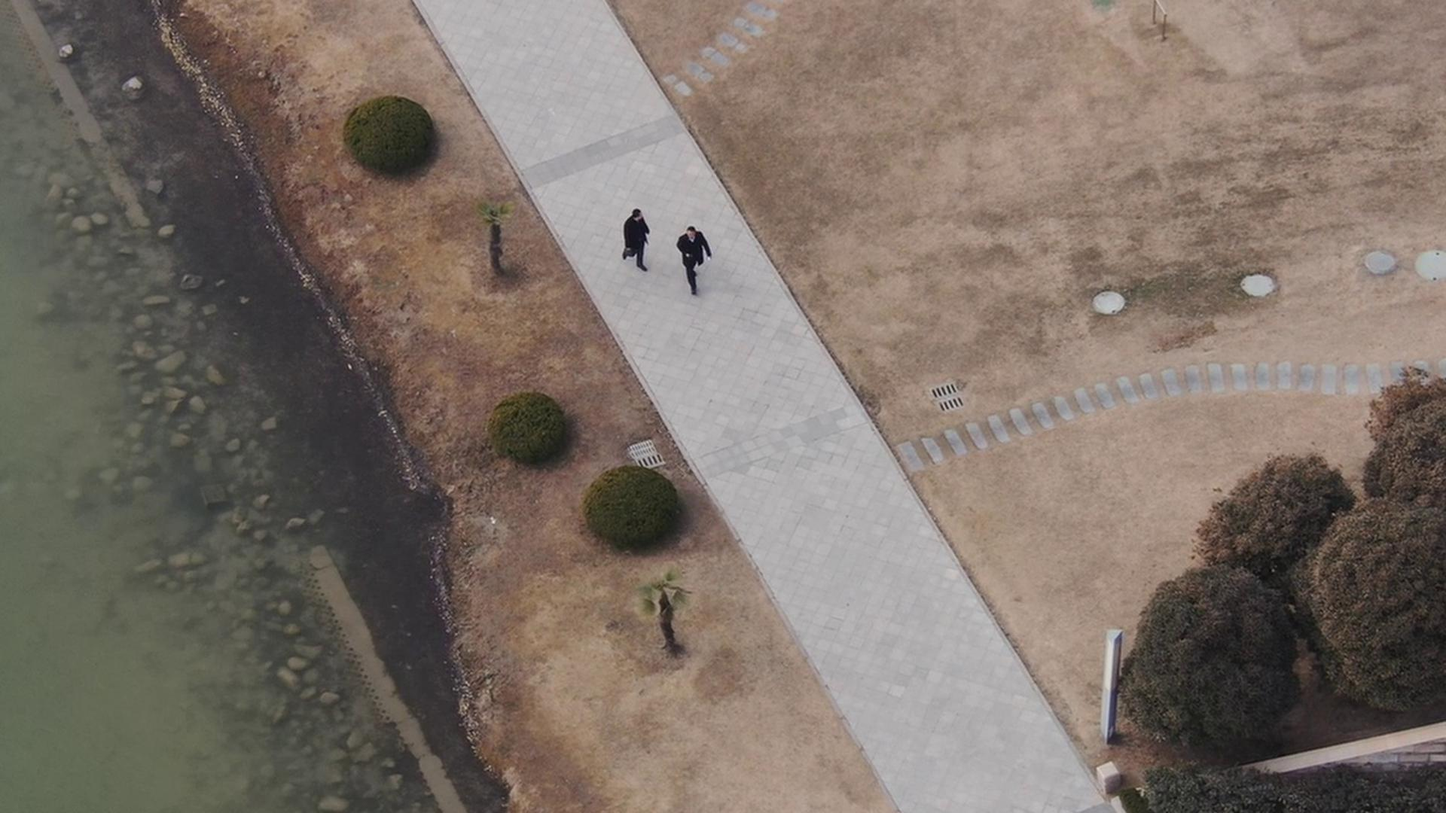human: (670, 215, 713, 299), (612, 199, 654, 276)
